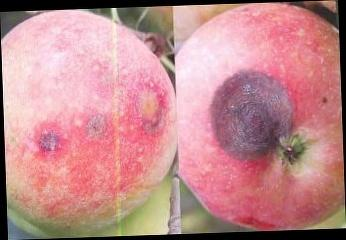rotten apple: (4, 9, 176, 236), (176, 3, 342, 230)
